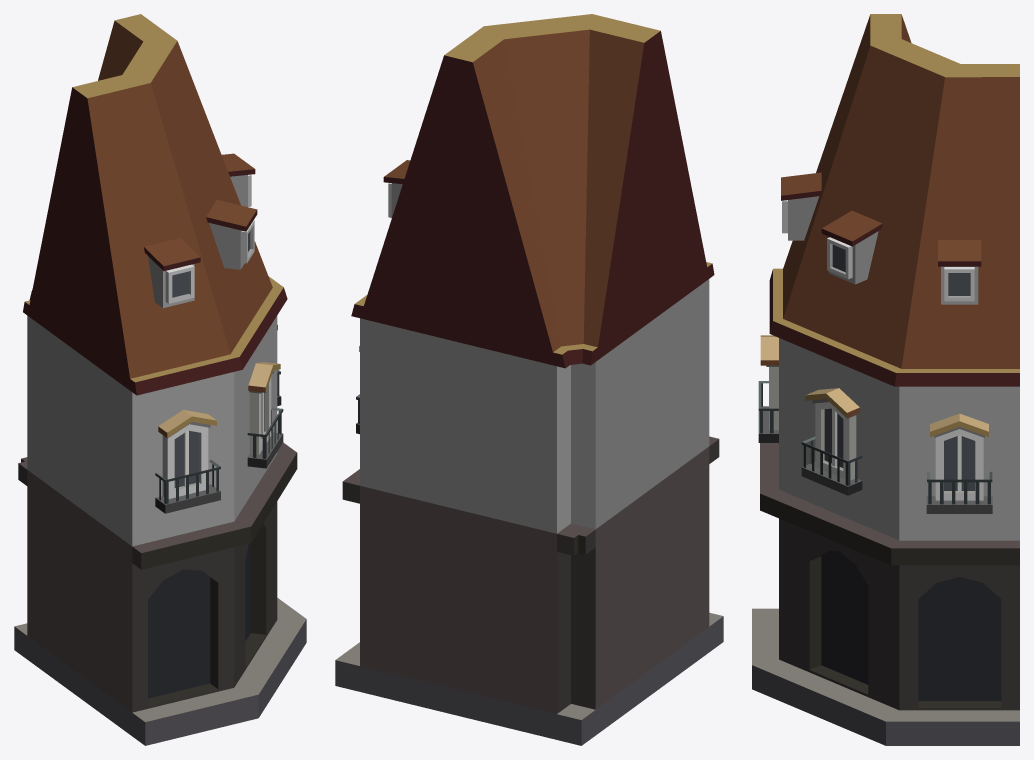
File: TB_CITY_BD_T_RCorner_2_C.FBX
3 renders of one model, left to right at view 1: azimuth 30°, elevation 25°; view 2: azimuth 150°, elevation 25°; view 3: azimuth 270°, elevation 25°, orthographic. The views are drawn at different scales.
Parts seen in each view (by area): view 1: TB_CITY_BD_T_RCorner_2_C; view 2: TB_CITY_BD_T_RCorner_2_C; view 3: TB_CITY_BD_T_RCorner_2_C.
Part boxes in pixels (left/top/right/bottom): TB_CITY_BD_T_RCorner_2_C: left=14, top=14, right=306, bottom=745; TB_CITY_BD_T_RCorner_2_C: left=335, top=14, right=723, bottom=745; TB_CITY_BD_T_RCorner_2_C: left=752, top=14, right=1019, bottom=745.
Size of the model in its own units: 7.99 by 20.37 by 7.99.
